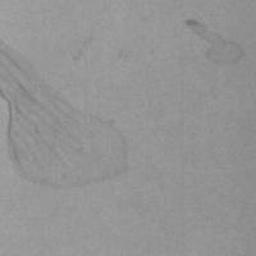Water spot: (0, 31, 137, 191), (177, 20, 250, 70)
